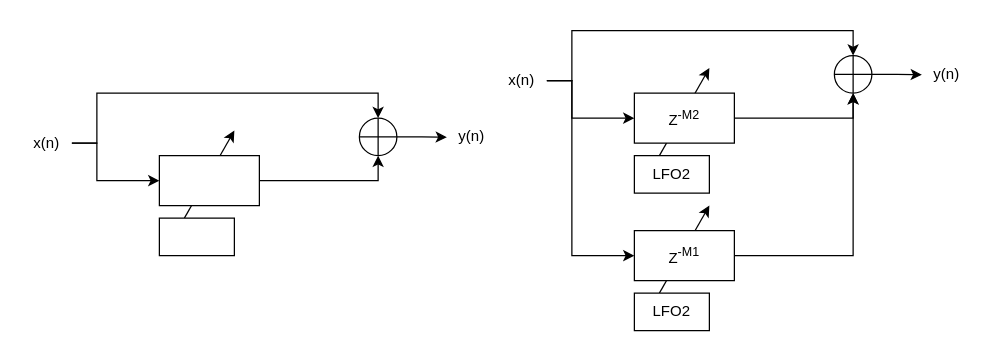
Some shapes in this 993 by 353 pixel diagram are drawn without their labels. Each missing label, with the centre of its shape:
"LFO" belongs at (196,236).
"Z -M" belongs at (208,180).
